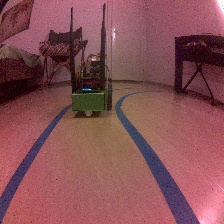rob: (70, 59, 113, 118)
